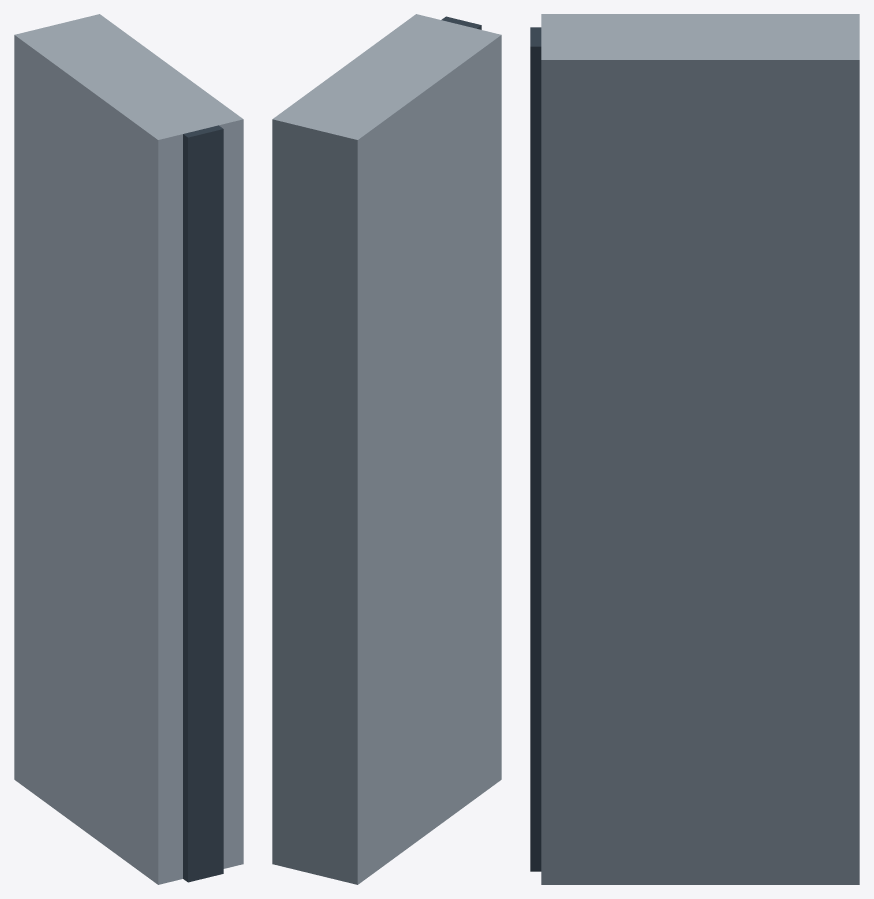
The model's file is Window_FrameV.gltf.
3 views of the same model, side by side, from view 1: azimuth 30°, elevation 25°; view 2: azimuth 150°, elevation 25°; view 3: azimuth 270°, elevation 25° (orthographic). The views are drawn at different scales.
Visible parts, largest first — view 1: Window_FrameV_baked; view 2: Window_FrameV_baked; view 3: Window_FrameV_baked.
Boxes of the visible parts, x1=… form: Window_FrameV_baked: x1=14, y1=14, x2=243, y2=884; Window_FrameV_baked: x1=272, y1=14, x2=501, y2=884; Window_FrameV_baked: x1=530, y1=14, x2=859, y2=884.
Bounding box in the file's own units: 0.12 × 1 × 0.362.
